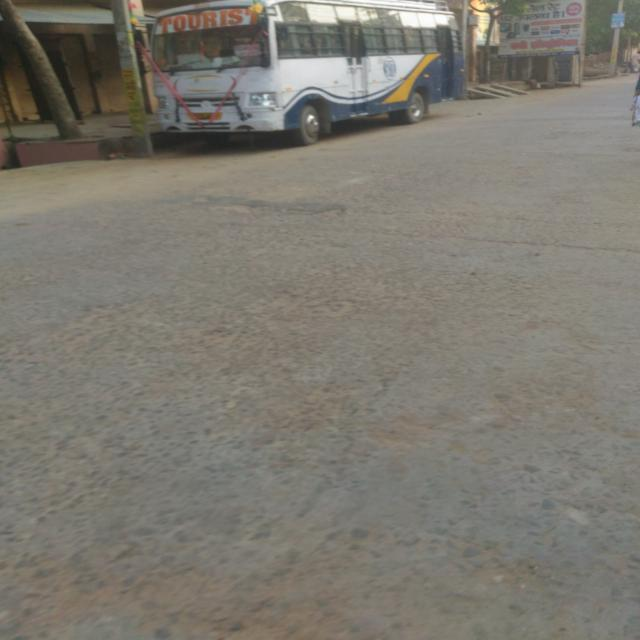Bus: (134, 0, 482, 144)
